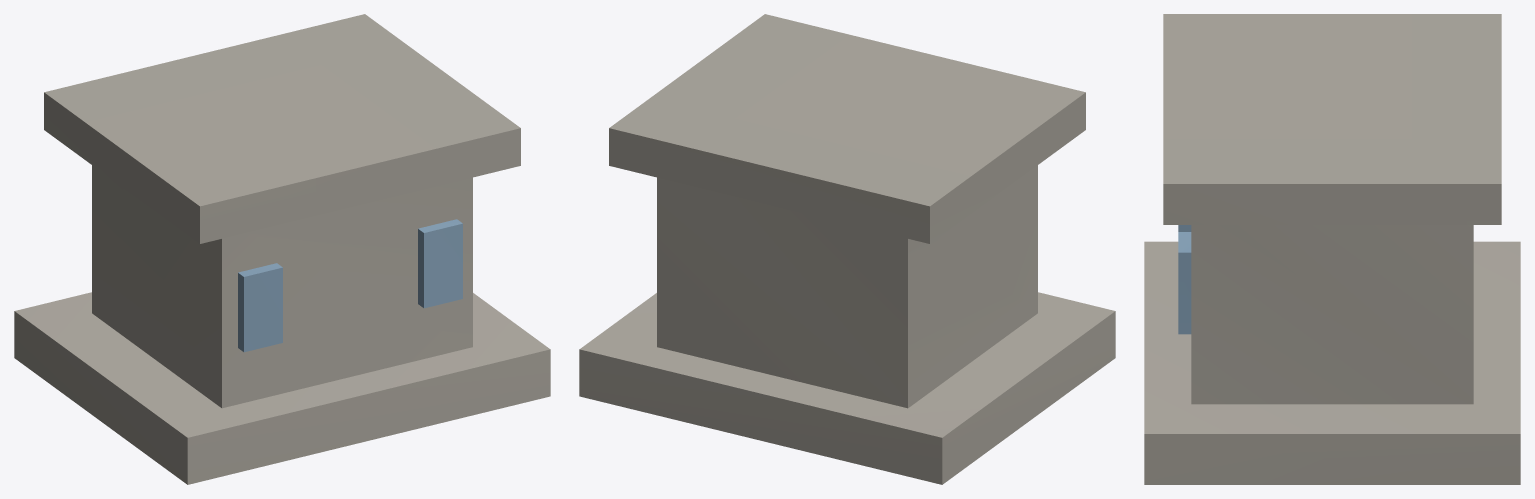
Rendered from market-03.glb.
3 renders of one model, left to right at view 1: azimuth 30°, elevation 25°; view 2: azimuth 150°, elevation 25°; view 3: azimuth 270°, elevation 25°, orthographic. The views are drawn at different scales.
Parts seen in each view (by area): view 1: world; view 2: world; view 3: world.
Boxes of the visible parts, x1=… form: world: x1=14, y1=14, x2=550, y2=484; world: x1=579, y1=14, x2=1115, y2=484; world: x1=1144, y1=14, x2=1520, y2=484.
Bounding box in the file's own units: 1.21 × 0.8505 × 1.
